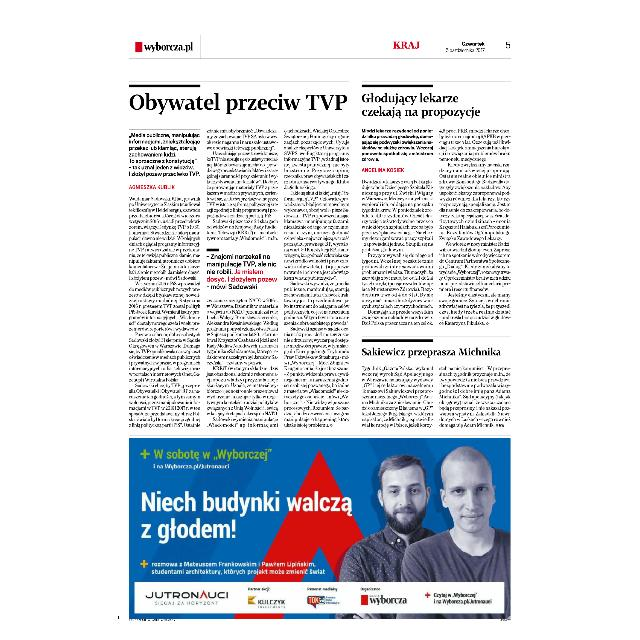article: (126, 82, 352, 432), (359, 83, 515, 329), (358, 336, 514, 429)
